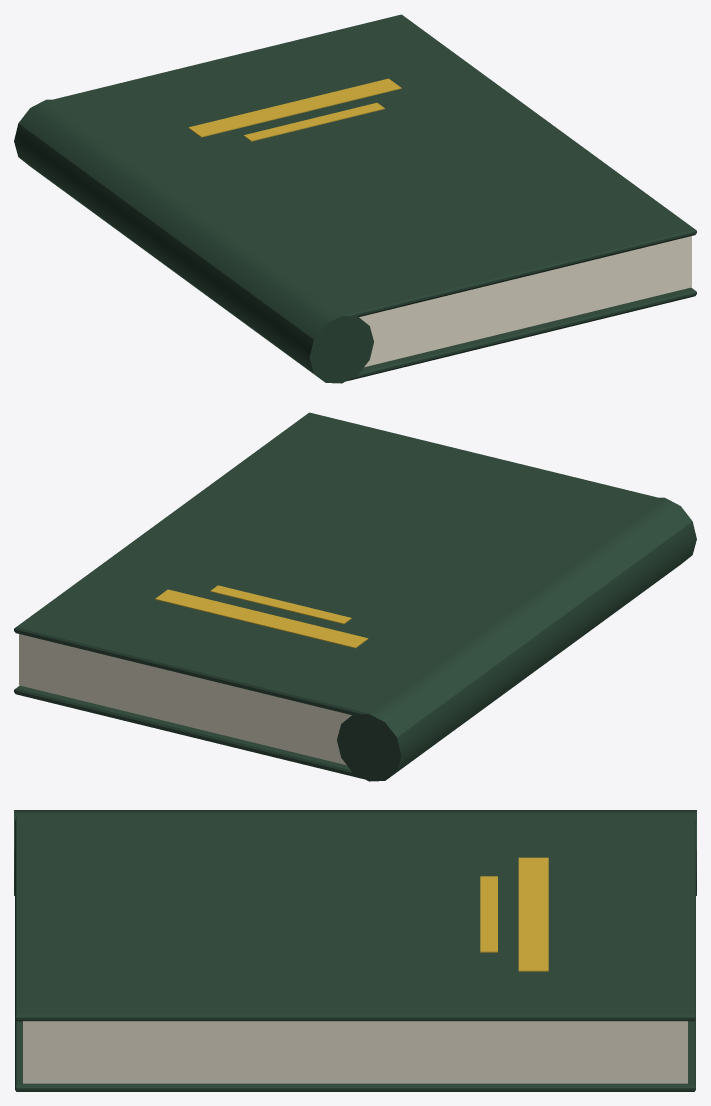
File: book.glb
The picture shows the model from 3 angles, top to bottom: view 1: azimuth 30°, elevation 25°; view 2: azimuth 150°, elevation 25°; view 3: azimuth 270°, elevation 25°; orthographic projection. The views are drawn at different scales.
Parts seen in each view (by area): view 1: book; view 2: book; view 3: book.
Boxes of the visible parts, box(x1,y1,x2,y2) form: book: box(14, 14, 696, 383); book: box(14, 412, 696, 781); book: box(14, 810, 696, 1091).
Bounding box in the file's own units: 0.16 × 0.0267 × 0.2109.
